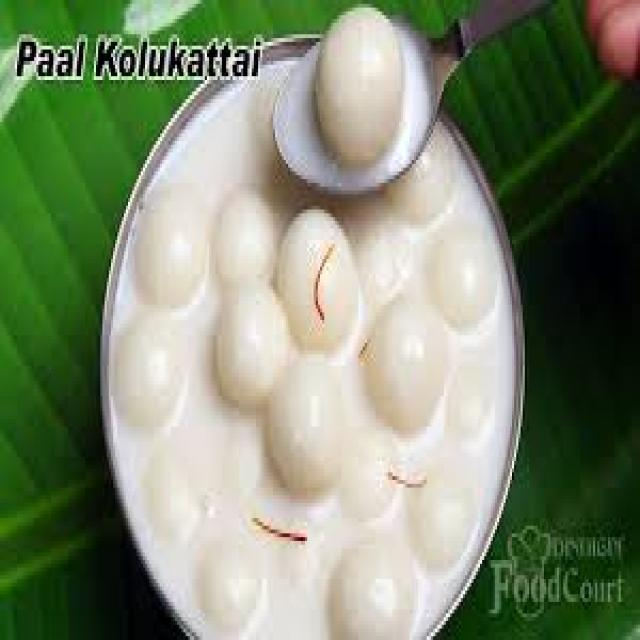paal kolukattai: (114, 60, 502, 640)
